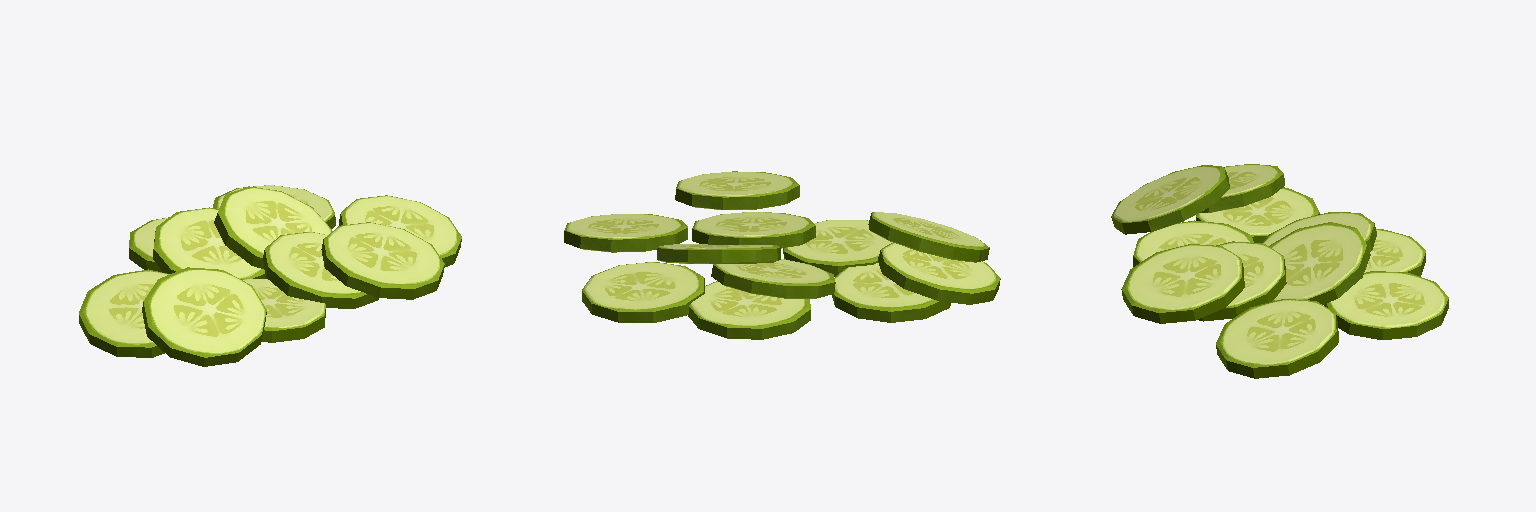
3 views of the same model, side by side, from view 1: azimuth 30°, elevation 25°; view 2: azimuth 150°, elevation 25°; view 3: azimuth 270°, elevation 25° (orthographic).
Parts seen in each view (by area): view 1: group3 group2 pSphere11, group2 group4 pSphere3, group2 pSphere9, pSphere12 group3 group2, group2 group4 pSphere4, group2 pSphere8, group2 pSphere5 group4, group3 group2 pSphere13, group2 pSphere7, group2 pSphere10; view 2: group2 pSphere10, group2 pSphere7, pSphere12 group3 group2, group3 group2 pSphere14, group2 group4 pSphere3, group2 pSphere5 group4, group2 group4 pSphere4, group2 pSphere8, group3 group2 pSphere13, group3 group2 pSphere11, group2 pSphere9; view 3: group2 pSphere5 group4, group2 group4 pSphere3, group2 pSphere10, group2 pSphere9, group3 group2 pSphere11, group2 group4 pSphere4, group3 group2 pSphere14, group3 group2 pSphere13, pSphere12 group3 group2, group2 pSphere7, group2 pSphere8.
Part boxes in pixels (x1,y1,x2,y2): group3 group2 pSphere11: (142, 267, 266, 366); group2 group4 pSphere3: (321, 222, 444, 299); group2 pSphere9: (214, 186, 331, 269); pSphere12 group3 group2: (79, 269, 169, 357); group2 group4 pSphere4: (263, 232, 378, 308); group2 pSphere8: (153, 207, 266, 278); group2 pSphere5 group4: (339, 195, 461, 267); group3 group2 pSphere13: (241, 279, 325, 342); group2 pSphere7: (129, 217, 168, 272); group2 pSphere10: (213, 185, 335, 228); group2 pSphere10: (582, 262, 704, 322); group2 pSphere7: (688, 281, 810, 339); pSphere12 group3 group2: (878, 243, 1000, 304); group3 group2 pSphere14: (832, 263, 950, 322); group2 group4 pSphere3: (675, 171, 799, 209); group2 pSphere5 group4: (564, 214, 687, 252); group2 group4 pSphere4: (692, 212, 815, 248); group2 pSphere8: (711, 259, 835, 298); group3 group2 pSphere13: (783, 220, 892, 276); group3 group2 pSphere11: (868, 212, 989, 262); group2 pSphere9: (657, 244, 780, 263); group2 pSphere5 group4: (1216, 299, 1338, 378); group2 group4 pSphere3: (1121, 244, 1244, 323); group2 pSphere10: (1324, 271, 1448, 339); group2 pSphere9: (1269, 222, 1370, 304); group3 group2 pSphere11: (1111, 165, 1229, 234); group2 group4 pSphere4: (1198, 241, 1286, 321); group3 group2 pSphere14: (1196, 187, 1319, 242); group3 group2 pSphere13: (1133, 220, 1253, 266); pSphere12 group3 group2: (1200, 164, 1284, 212); group2 pSphere7: (1364, 229, 1425, 276); group2 pSphere8: (1262, 212, 1376, 251).
Size of the model in its own units: 8.68 by 1.34 by 6.45.
Materials: 1 (1 with a texture image).